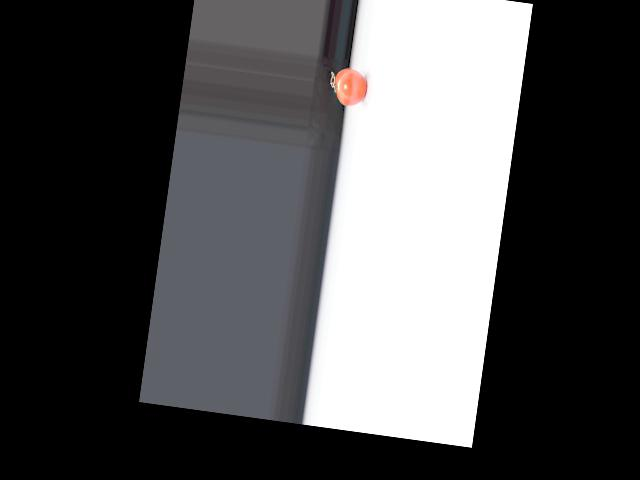tomato: (331, 67, 369, 108)
